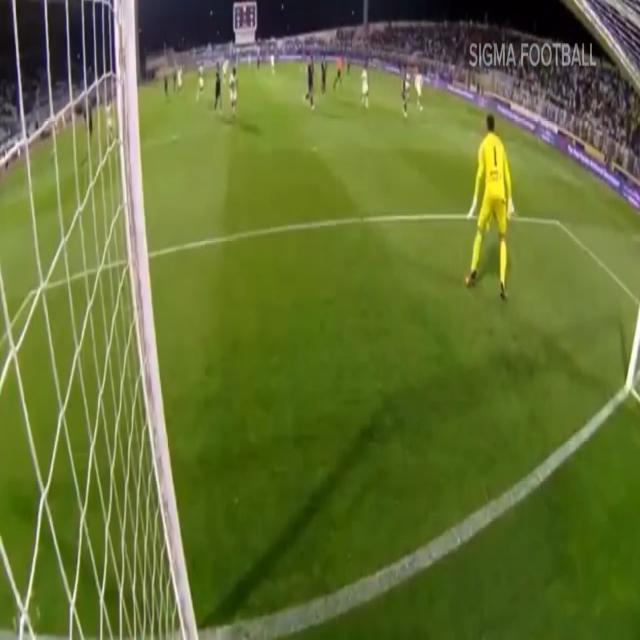goalkeeper: (460, 97, 522, 330)
player: (301, 55, 321, 116), (225, 61, 243, 127), (358, 55, 373, 120), (195, 47, 211, 103), (397, 57, 410, 116), (315, 54, 333, 94), (213, 64, 223, 129), (414, 65, 425, 120), (156, 74, 175, 103), (346, 44, 355, 79), (268, 46, 280, 70), (253, 55, 265, 77)
referee: (334, 49, 344, 85)
